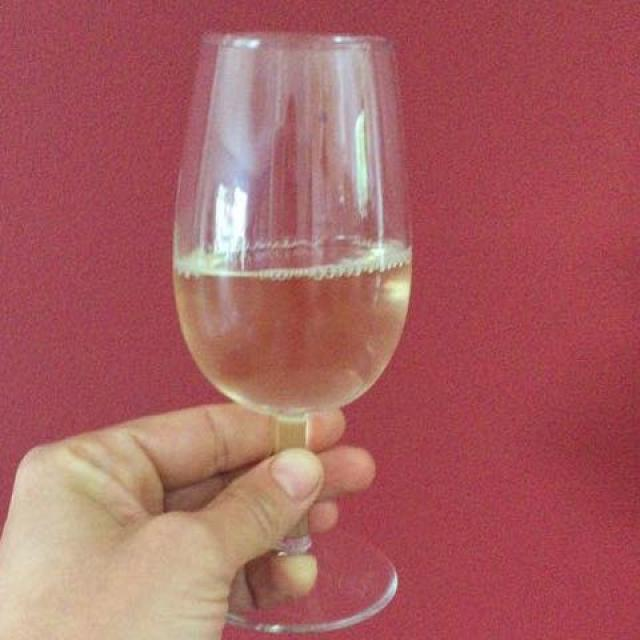wine-white: (148, 238, 442, 435)
